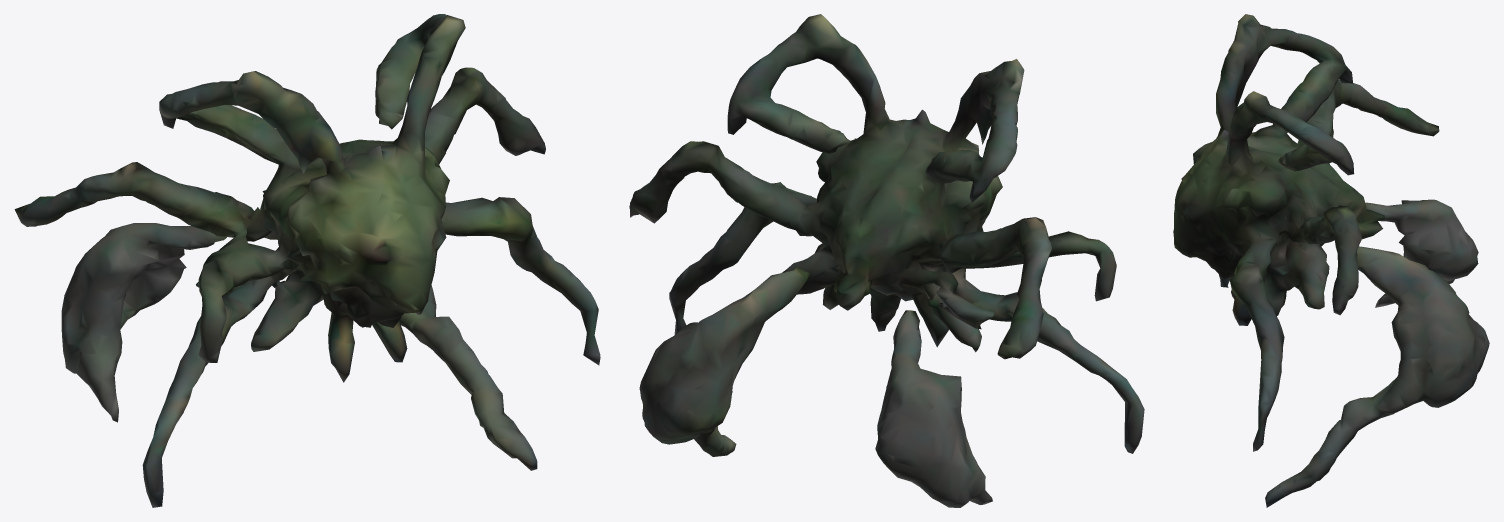
File: poison_spider.glb
3 views of the same model, side by side, from view 1: azimuth 30°, elevation 25°; view 2: azimuth 150°, elevation 25°; view 3: azimuth 270°, elevation 25° (orthographic). The views are drawn at different scales.
Visible parts, largest first — view 1: geometry_0; view 2: geometry_0; view 3: geometry_0.
Boxes of the visible parts, left/top/right/bottom form: geometry_0: left=14, top=14, right=600, bottom=507; geometry_0: left=629, top=14, right=1144, bottom=507; geometry_0: left=1173, top=14, right=1489, bottom=507.
Bounding box in the file's own units: 0.9395 × 0.8946 × 0.6748.
